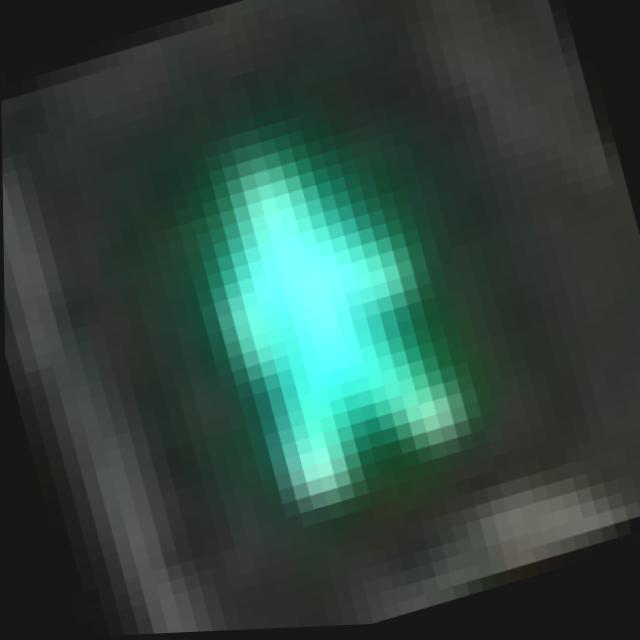green_light: (57, 58, 563, 627)
